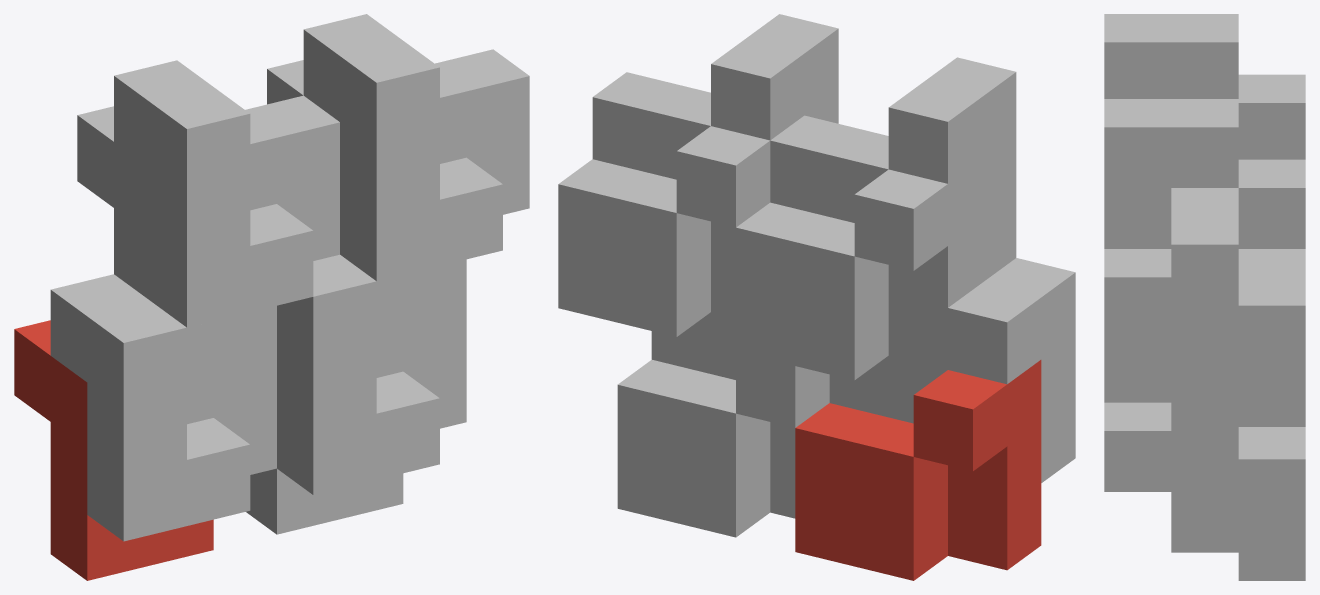
File: tiling.obj
The picture shows the model from 3 angles, left to right: view 1: azimuth 30°, elevation 25°; view 2: azimuth 150°, elevation 25°; view 3: azimuth 270°, elevation 25°; orthographic projection. The views are drawn at different scales.
Visible parts, largest first — view 1: copy_1_domain_8, copy_1_domain_4, copy_1_domain_2, copy_1_domain_6, copy_1_domain_1, copy_1_domain_3, copy_1_domain_5, copy_1_domain_7; view 2: copy_1_domain_1, copy_1_domain_3, copy_1_domain_7, copy_1_domain_5, copy_1_domain_4, copy_1_domain_8, copy_1_domain_2, copy_1_domain_6; view 3: copy_1_domain_8, copy_1_domain_7, copy_1_domain_6, copy_1_domain_5, copy_1_domain_4, copy_1_domain_3.
Part boxes in pixels (x1=…): copy_1_domain_8: x1=303, y1=14, x2=529, y2=281; copy_1_domain_4: x1=114, y1=60, x2=339, y2=327; copy_1_domain_2: x1=50, y1=274, x2=276, y2=541; copy_1_domain_6: x1=277, y1=254, x2=466, y2=495; copy_1_domain_1: x1=14, y1=320, x2=213, y2=580; copy_1_domain_3: x1=77, y1=106, x2=276, y2=357; copy_1_domain_5: x1=246, y1=468, x2=403, y2=534; copy_1_domain_7: x1=267, y1=60, x2=466, y2=311; copy_1_domain_1: x1=795, y1=360, x2=1041, y2=580; copy_1_domain_3: x1=736, y1=159, x2=982, y2=380; copy_1_domain_7: x1=558, y1=126, x2=770, y2=336; copy_1_domain_5: x1=617, y1=351, x2=829, y2=537; copy_1_domain_4: x1=770, y1=57, x2=1016, y2=282; copy_1_domain_8: x1=592, y1=14, x2=838, y2=179; copy_1_domain_2: x1=829, y1=258, x2=1075, y2=482; copy_1_domain_6: x1=651, y1=312, x2=735, y2=379; copy_1_domain_8: x1=1104, y1=99, x2=1238, y2=366; copy_1_domain_7: x1=1171, y1=159, x2=1305, y2=426; copy_1_domain_6: x1=1104, y1=338, x2=1238, y2=520; copy_1_domain_5: x1=1171, y1=427, x2=1305, y2=580; copy_1_domain_4: x1=1104, y1=14, x2=1238, y2=98; copy_1_domain_3: x1=1238, y1=74, x2=1305, y2=159.
Size of the model in its own units: 7 by 7 by 3.
